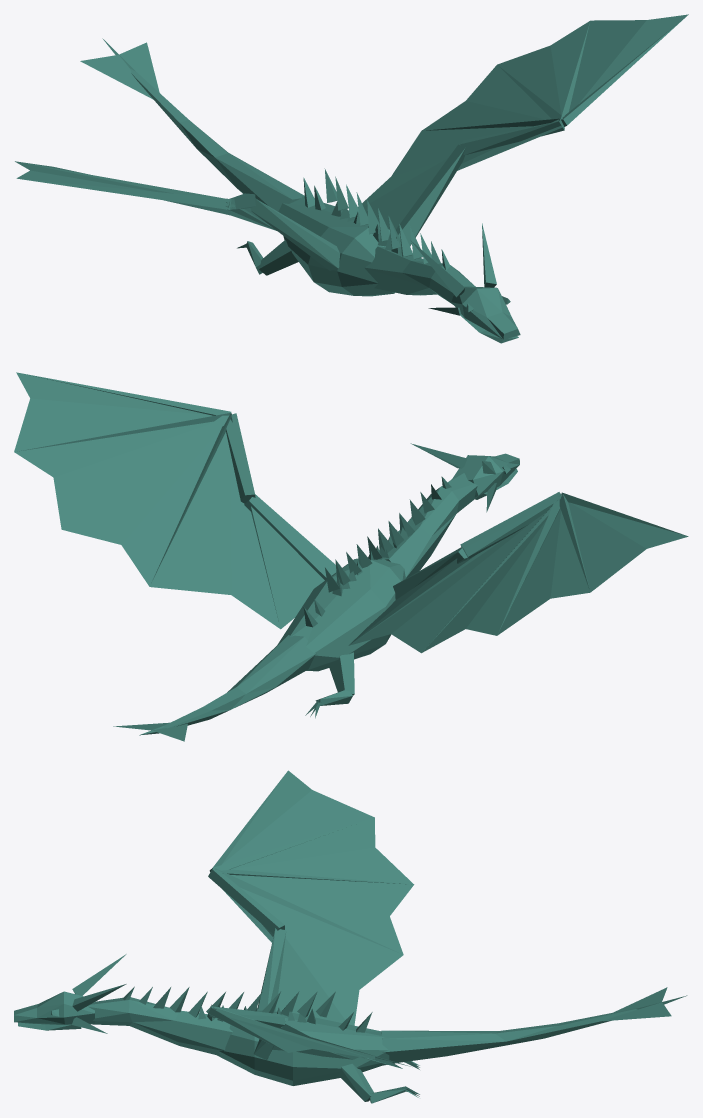
Rendered from bronze-crest-far.glb.
The picture shows the model from 3 angles, top to bottom: view 1: azimuth 30°, elevation 25°; view 2: azimuth 150°, elevation 25°; view 3: azimuth 270°, elevation 25°; orthographic projection. The views are drawn at different scales.
Parts seen in each view (by area): view 1: Distant gliding wyvern; view 2: Distant gliding wyvern; view 3: Distant gliding wyvern.
Boxes of the visible parts, <box> form: Distant gliding wyvern: <box>15,14,688,343</box>; Distant gliding wyvern: <box>14,372,688,741</box>; Distant gliding wyvern: <box>14,770,687,1103</box>.
Bounding box in the file's own units: 34.76 × 10.02 × 35.07.
